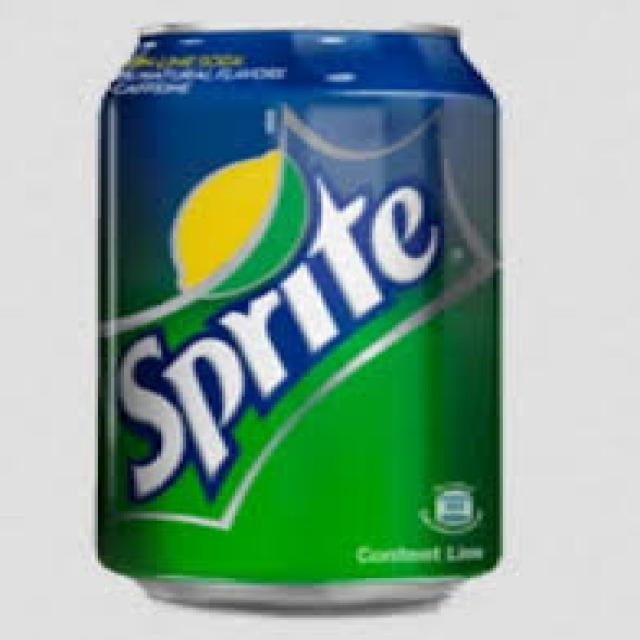aluminum_can: (101, 30, 503, 607)
